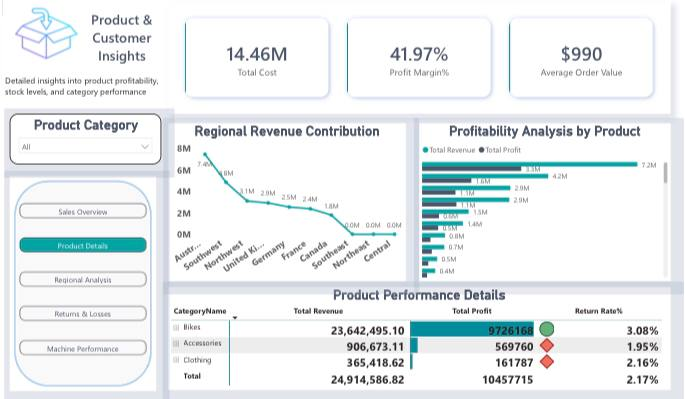

The dashboard page shown, as its layout file describes it:
{"tool":"powerbi","page":{"name":"Product Details","canvas":[1280,720],"ordinal":1},"visuals":[{"type":"cardVisual","fields":{"Data":["_Measures.Total Cost","_Measures.Profit Margin%","_Measures.Average Order Value"]},"box":[295.6,8.4,895.3,199.9],"z":0},{"type":"textbox","box":[0,131.8,296.2,55.3],"z":1000},{"type":"textbox","box":[130.4,0,165.8,165.8],"z":2000},{"type":"clusteredBarChart","title":"Profitability Analysis by Product","fields":{"Category":["Dim_Products.ProductName"],"Y":["_Measures.Total Revenue","_Measures.Total Profit"]},"box":[742.7,225.4,447.9,280.6],"z":3000},{"type":"pivotTable","title":"Product Performance Details","fields":{"Rows":["Dim_Categories.CategoryName","Dim_Products.ProductName"],"Values":["_Measures.Total Revenue","_Measures.Total Profit","_Measures.Return Rate%"]},"box":[294.8,517.3,895.7,182.8],"z":4000},{"type":"areaChart","title":"Regional Revenue Contribution","fields":{"Y":["_Measures.Total Revenue"],"Category":["Dim_Territories.Region"]},"box":[296.2,225.4,422.4,280.6],"z":5000},{"type":"group","id":"g1","title":"Group 1","box":[12.8,318.9,260.8,382.7],"z":6000},{"type":"shape","title":"Navigation","box":[12.8,318.9,260.8,382.7],"z":7000,"group":"g1"},{"type":"slicer","title":"Product Category","fields":{"Values":["Dim_Categories.CategoryName"]},"box":[12.8,208.3,270.7,89.3],"z":7000},{"type":"image","box":[12.9,8.6,130,112.9],"z":7001},{"type":"pageNavigator","box":[22.7,360,240.9,286.3],"z":8000,"group":"g1"}]}

Visuals, with their boxes on the page's 1280x720 design canvas (x1, y1, x2, y2). These are canvas units, not pixel positions in the 685x399 screenshot, which may show the page scaled, cropped or inside an application window:
cardVisual - _Measures.Total Cost x _Measures.Profit Margin%: Rect(296, 8, 1191, 208)
textbox: Rect(0, 132, 296, 187)
textbox: Rect(130, 0, 296, 166)
"Profitability Analysis by Product" clusteredBarChart: Rect(743, 225, 1191, 506)
"Product Performance Details" pivotTable: Rect(295, 517, 1190, 700)
"Regional Revenue Contribution" areaChart: Rect(296, 225, 719, 506)
"Group 1" group: Rect(13, 319, 274, 702)
"Navigation" shape: Rect(13, 319, 274, 702)
"Product Category" slicer: Rect(13, 208, 284, 298)
image: Rect(13, 9, 143, 122)
pageNavigator: Rect(23, 360, 264, 646)
